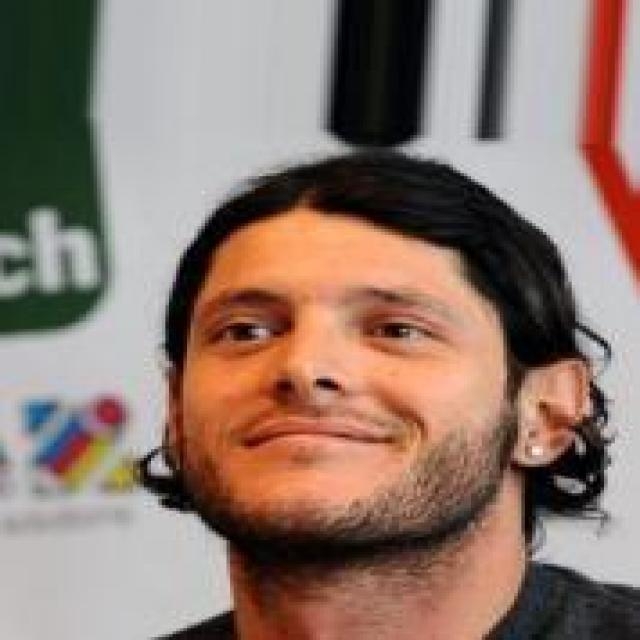nomask: (133, 188, 611, 581)
